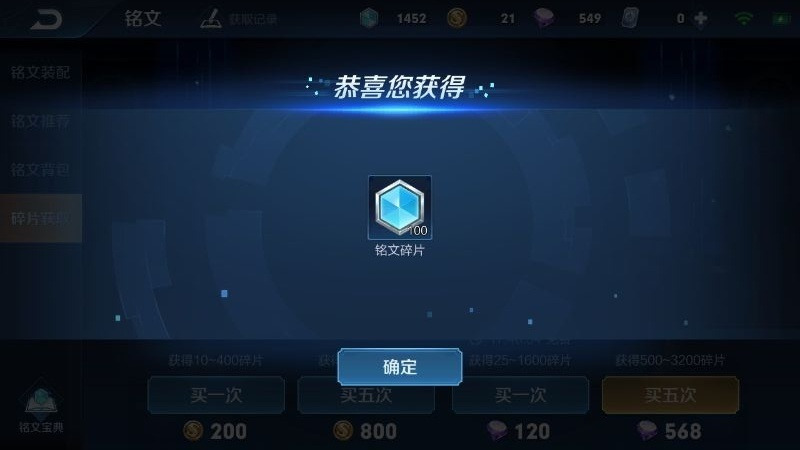tag: (355, 352, 446, 380)
